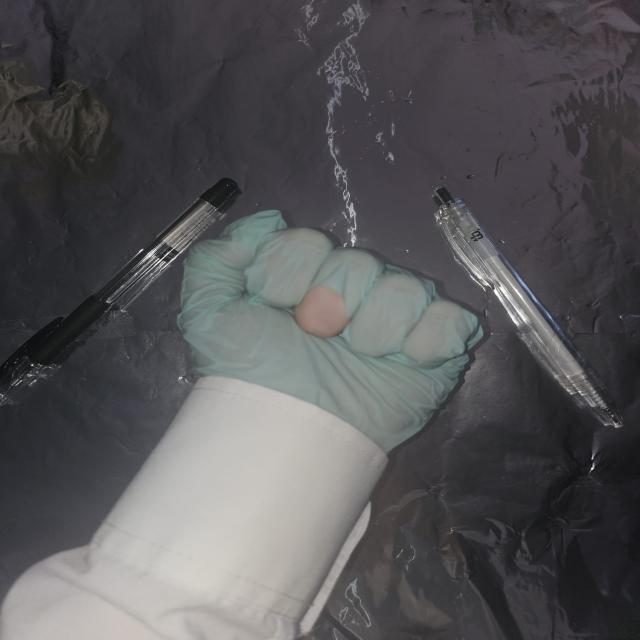gloves_damaged: (174, 203, 488, 455)
